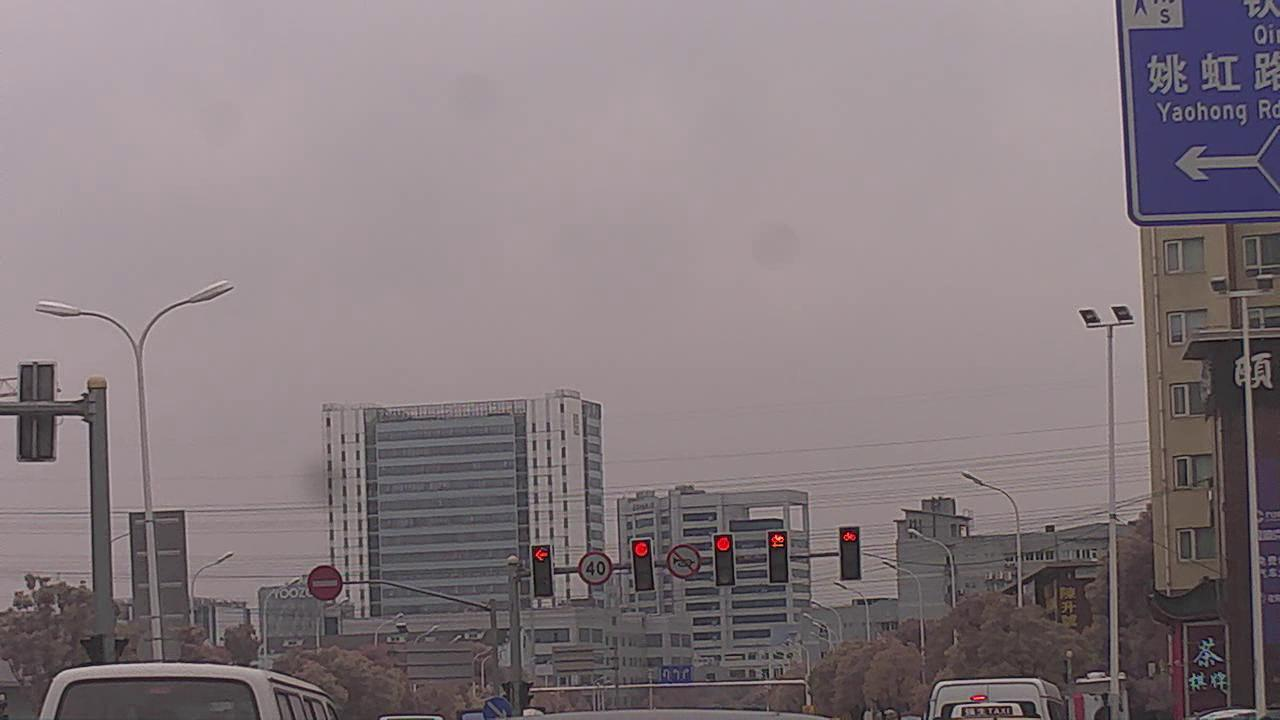traffic_light: (840, 528, 865, 581), (531, 545, 555, 598), (631, 538, 653, 595), (715, 535, 735, 588), (771, 531, 787, 581)
